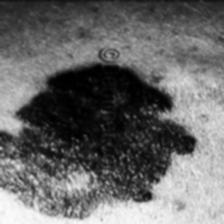Potentially Malignant Skin Tumors: (0, 64, 196, 218)
